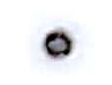cancer: (20, 6, 94, 77)
